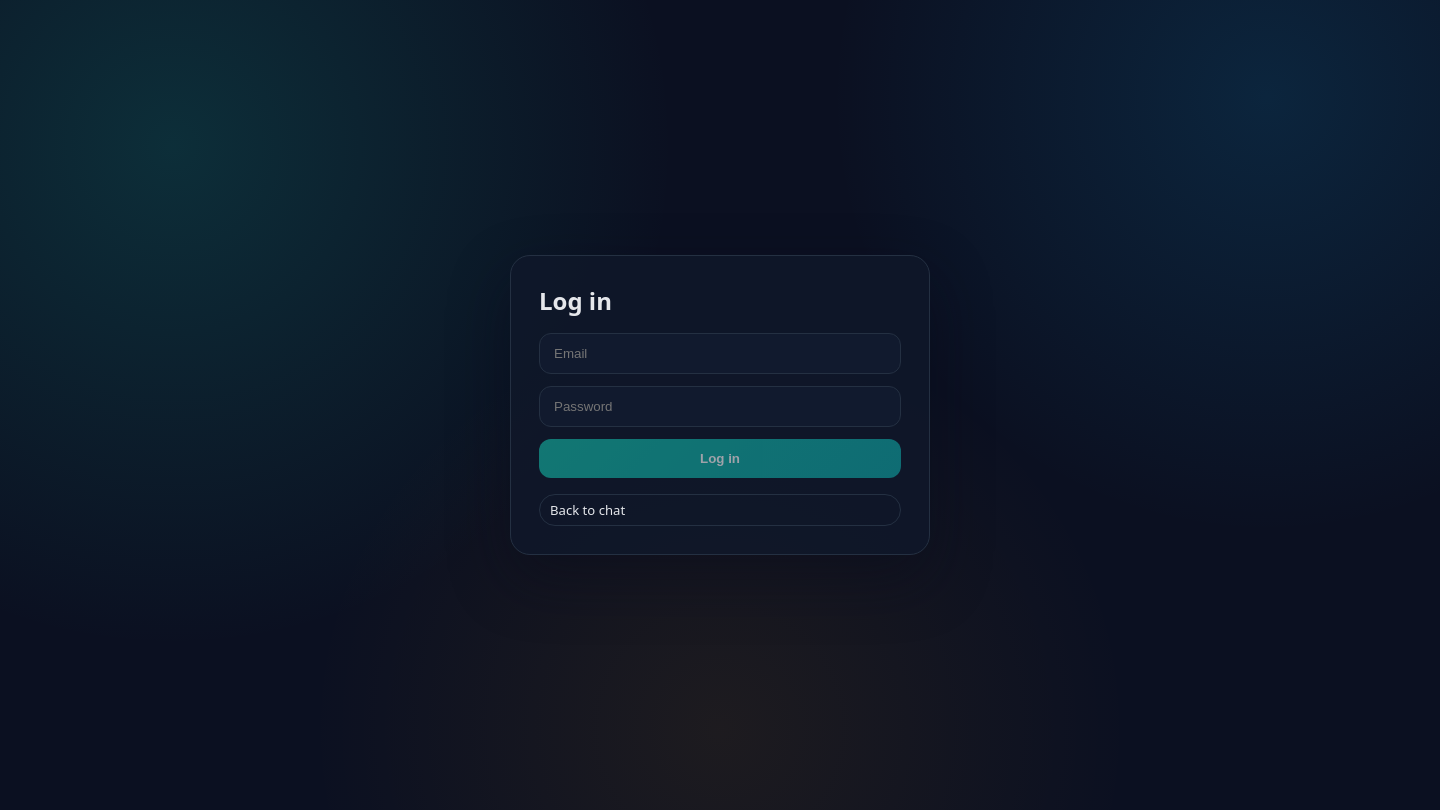
Test: Login Page › failed login shows error message
Type "wrong@example.com" into the field with placeholder "Email".
click(720, 354); type("wrong@example.com")  # box [539, 333, 901, 374]
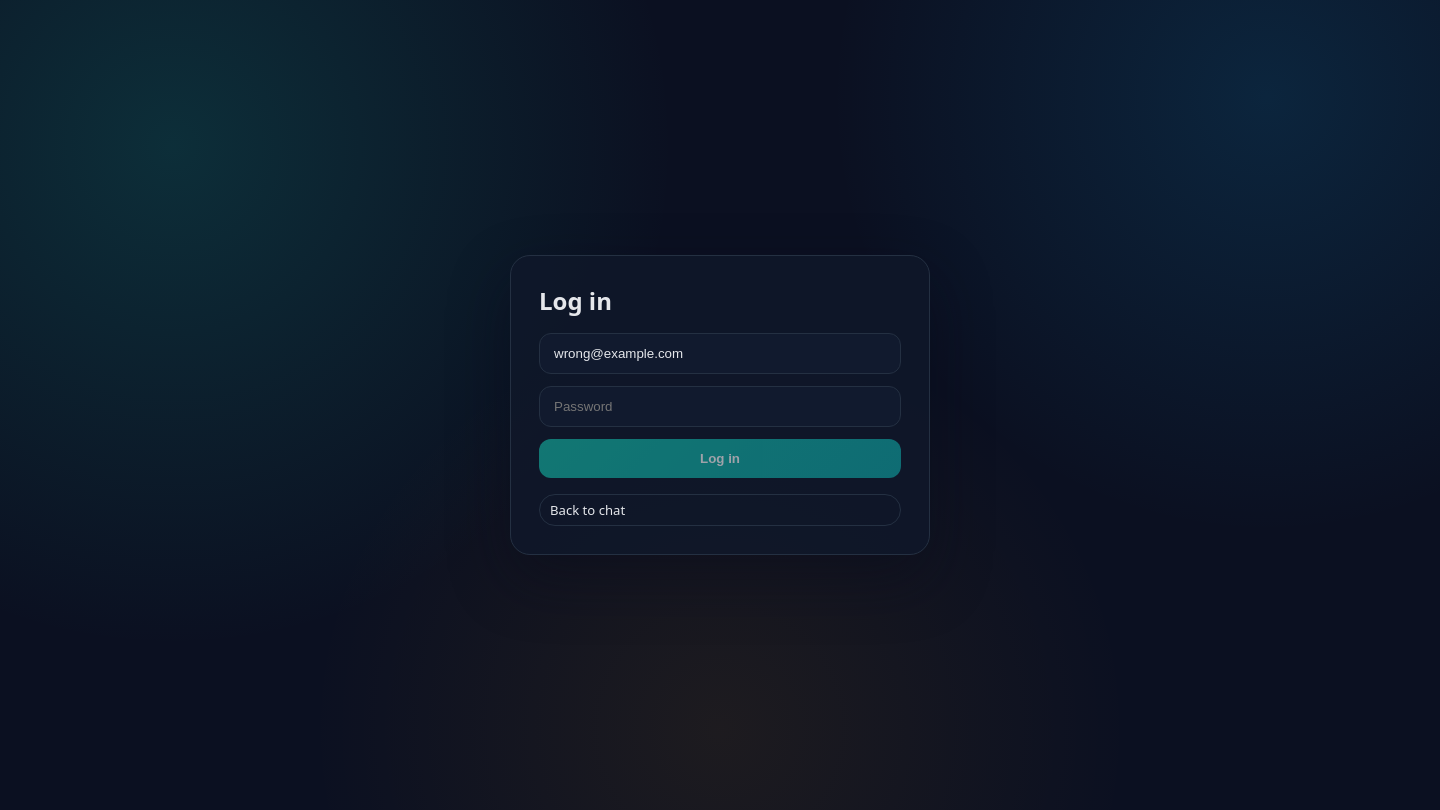
Type "wrongpassword" into the password field with placeholder "Password".
click(720, 406); type("wrongpassword")  # box [539, 386, 901, 427]
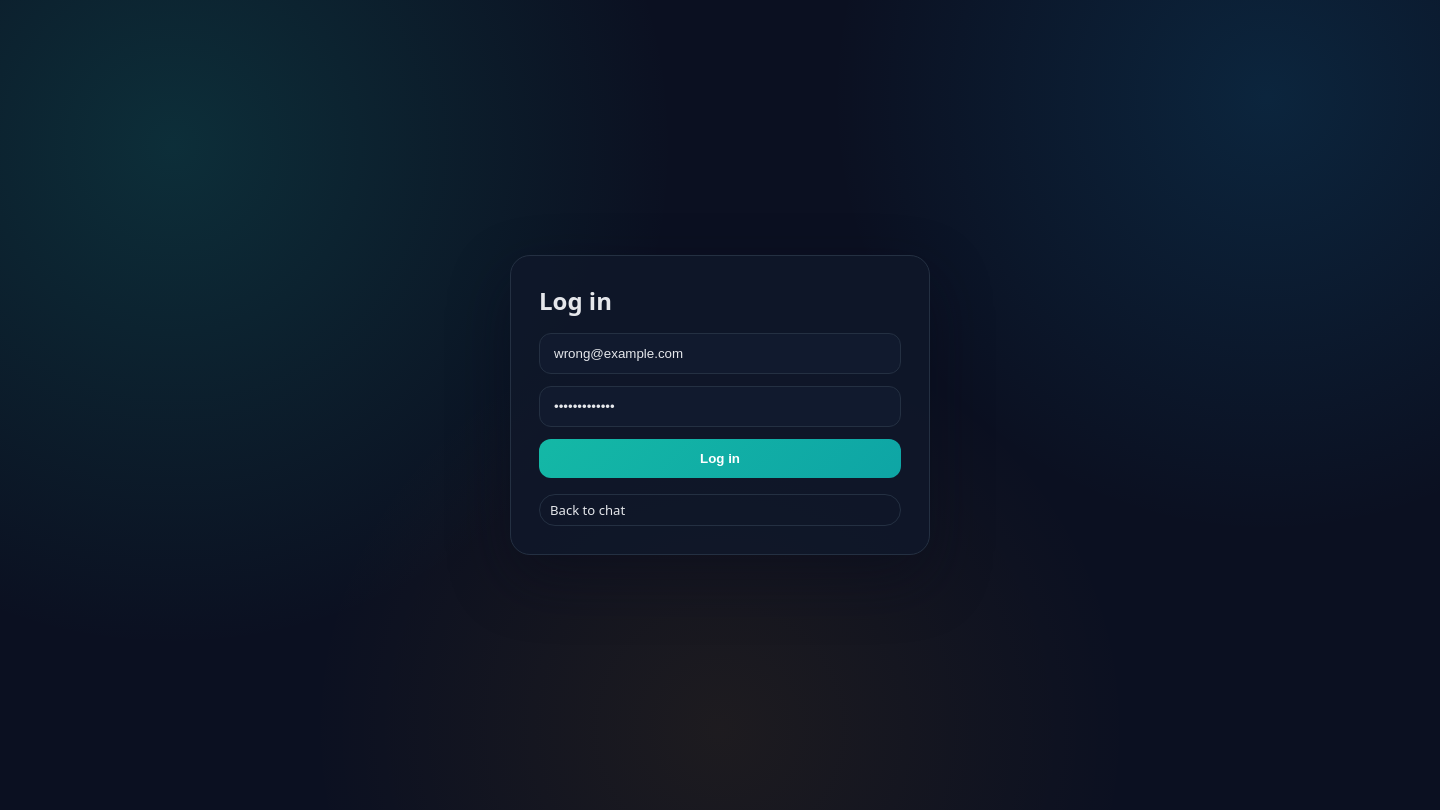
Click the button "Log in".
click(720, 458)  # box [539, 439, 901, 478]
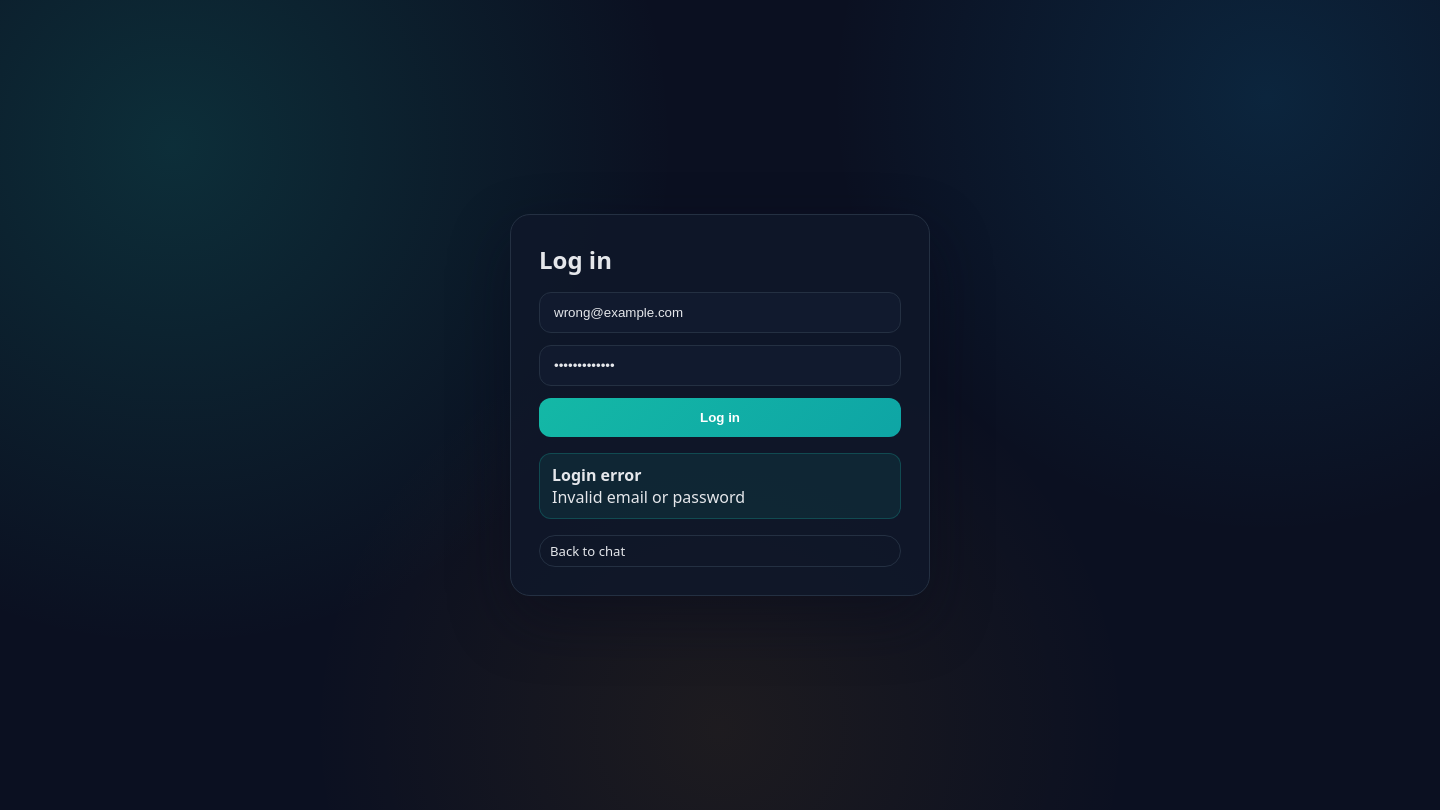
Check: the text "Invalid email or password" is shown, box [552, 486, 745, 508]
